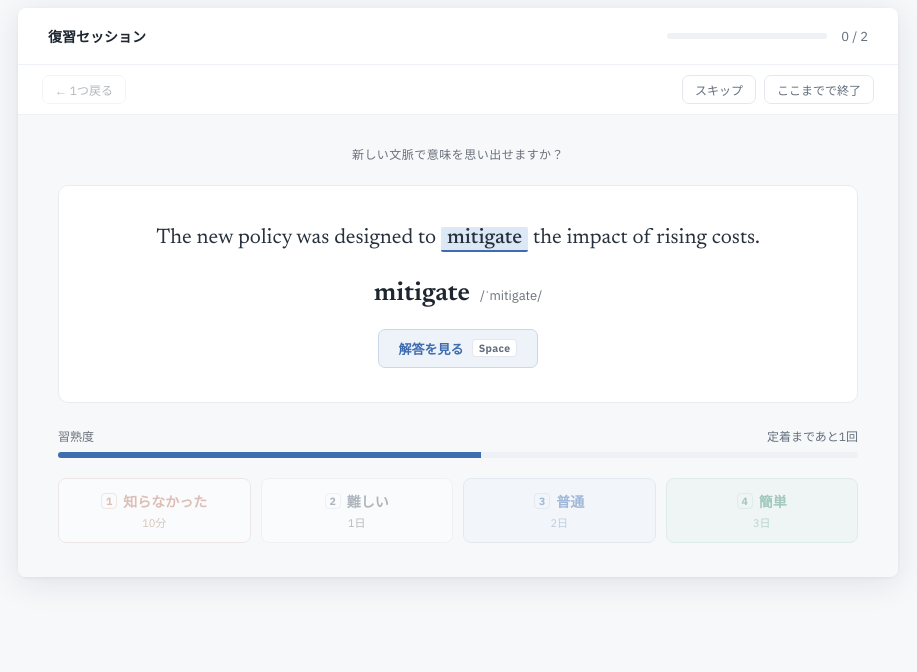
Scenario: <ReviewSession/> › keeps the progress counter numerator ≤ denominator once Again re-drills are graded
Click the button with test id "review-reveal" at (458, 348), box [378,329,538,368]
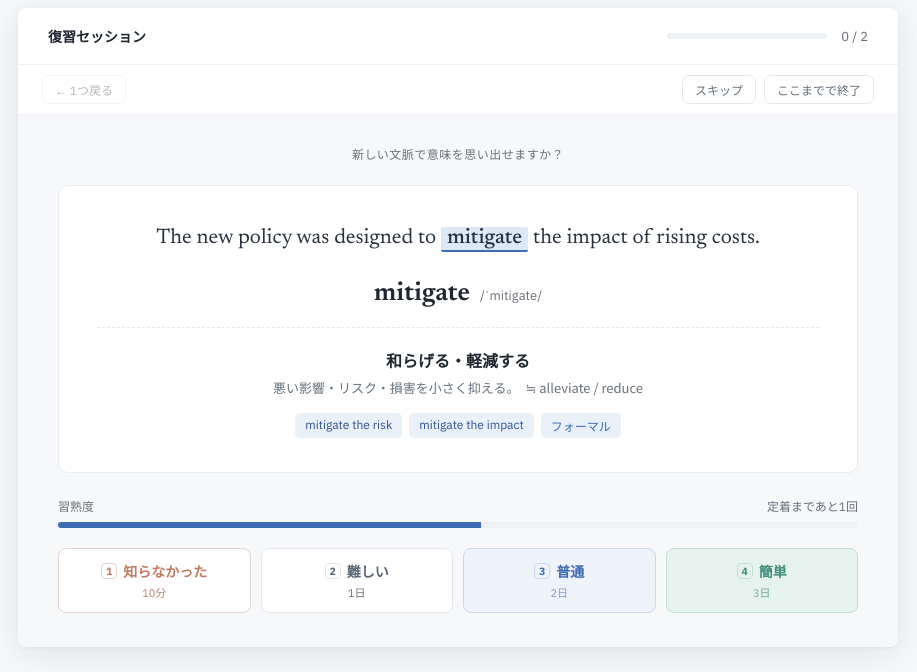
Click the button with test id "rate-1" at (154, 580), box [58,548,250,613]
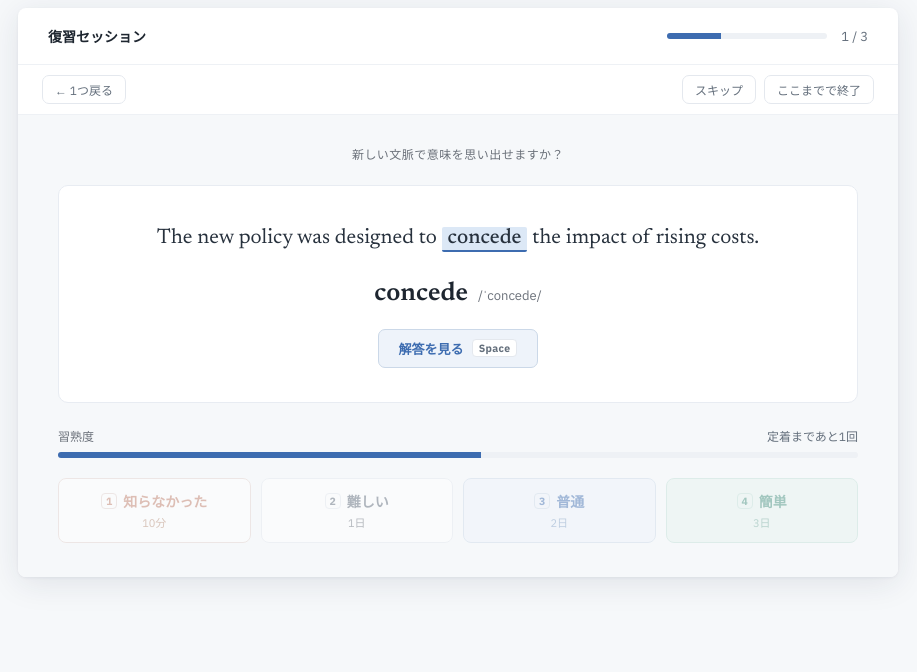
Check: the text with test id "review-target" reads "concede", box [448,228,522,249]
Click the button with test id "review-reveal" at (458, 348), box [378,329,538,368]
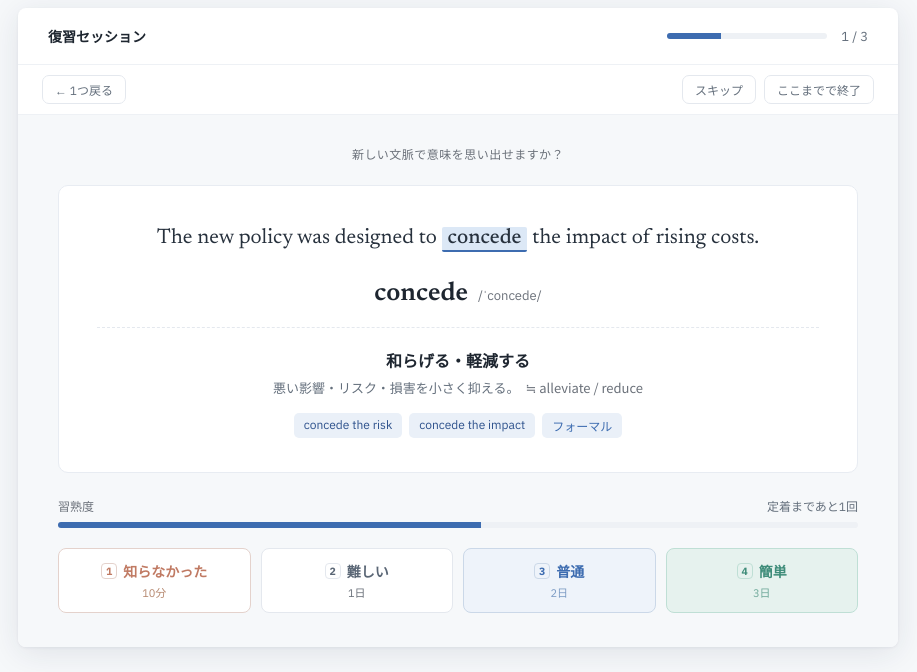
Click the button with test id "rate-1" at (154, 580), box [58,548,250,613]
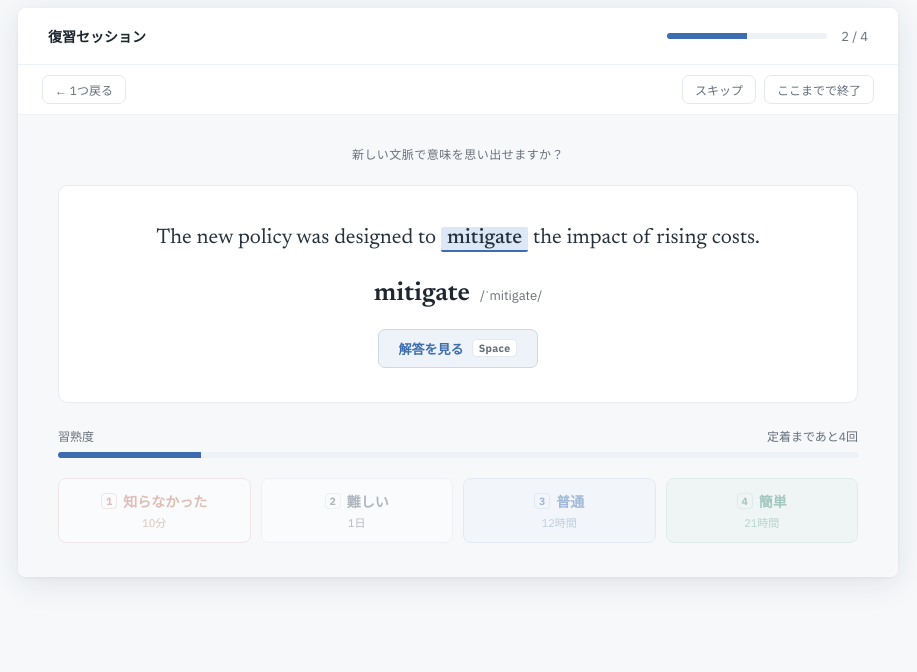
Check: the text with test id "review-target" reads "mitigate", box [447,228,522,249]
Click the button with test id "review-reveal" at (458, 348), box [378,329,538,368]
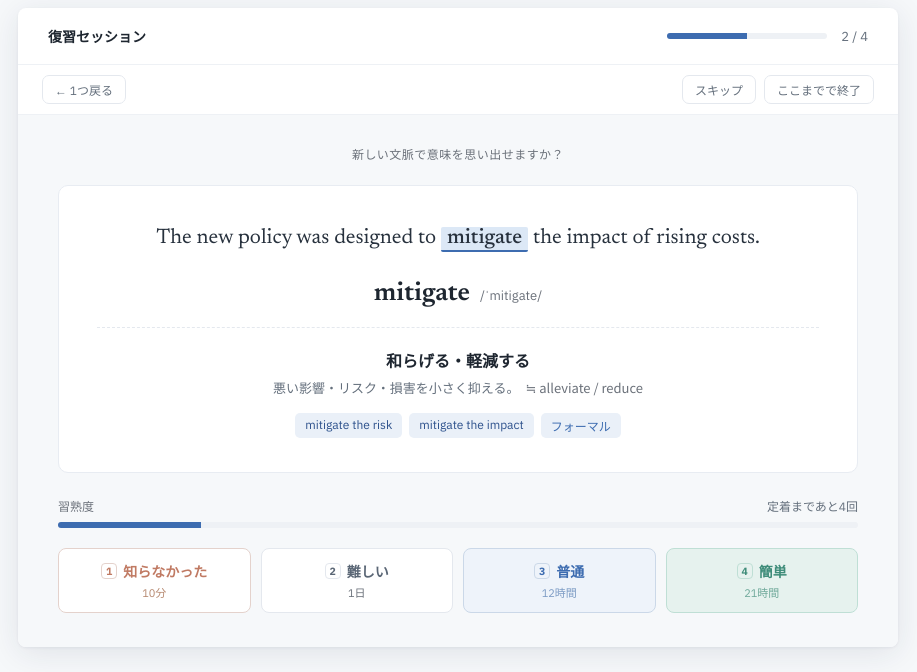
Click the button with test id "rate-1" at (154, 580), box [58,548,250,613]
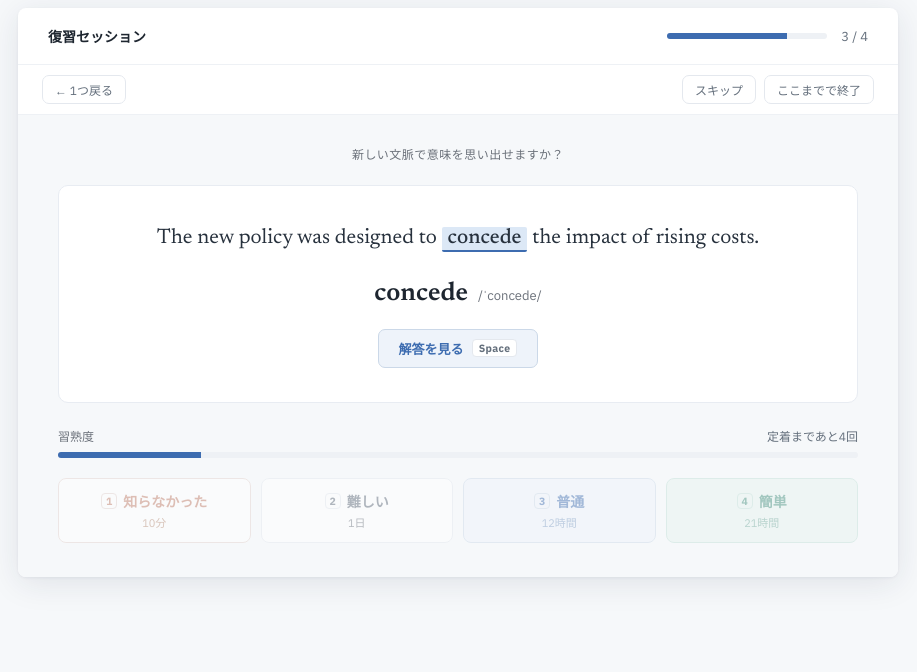
Check: the text with test id "review-target" reads "concede", box [448,228,522,249]
